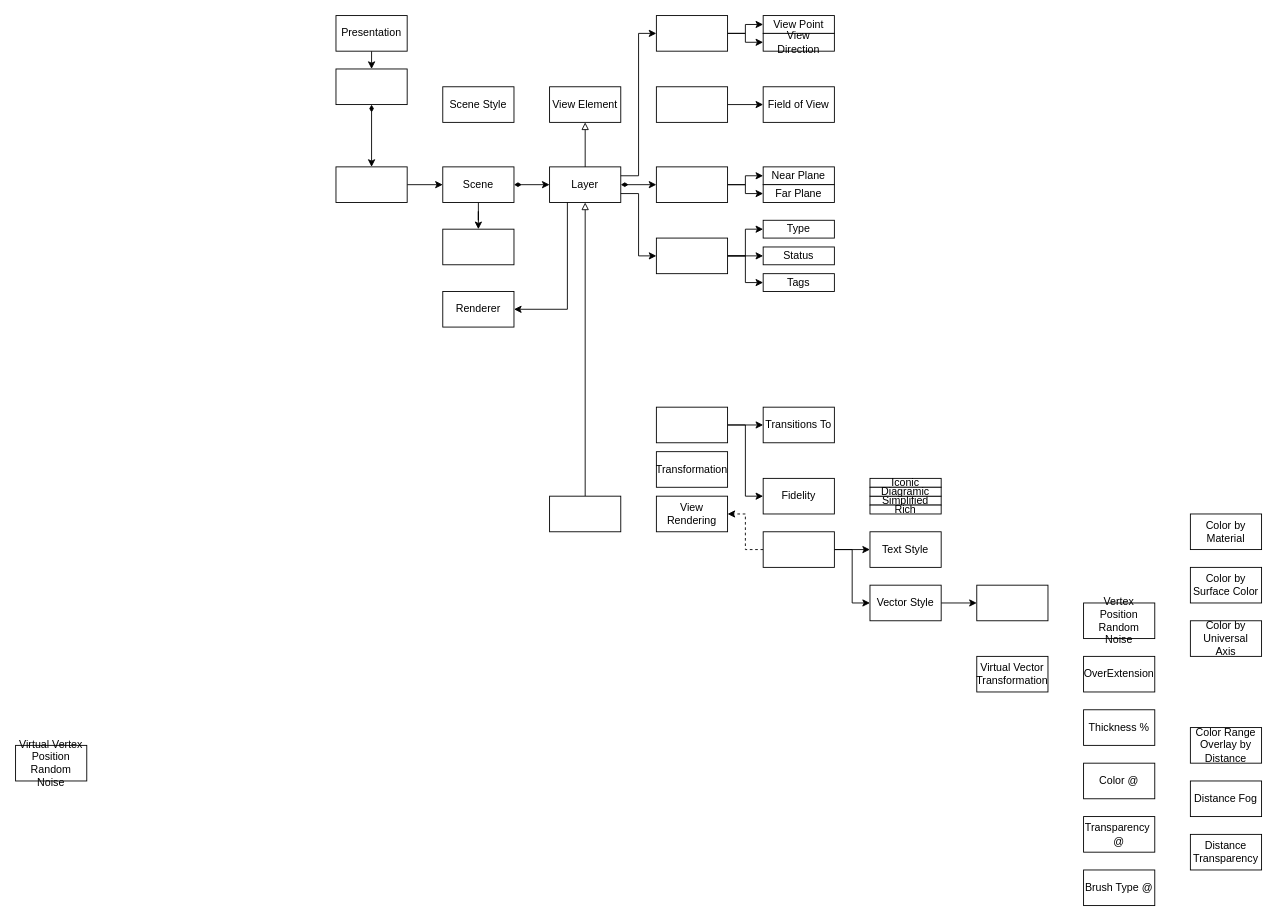
This 1277x921 diagram has some shape labels left out. Each missing label, with the centre of its shape:
"Animation Into" goes at point (478, 246).
"Overlays" goes at point (585, 513).
"Per View Element" goes at point (691, 424).
"Rendering" goes at point (371, 184).
"Style" goes at point (798, 549).
"Timeline" goes at point (371, 86).
"View" goes at point (691, 33).
"View Element Filtering" goes at point (691, 255).
"View Frame" goes at point (691, 104).
"View Frustrum" goes at point (691, 184).
"Virtual Vector Set" goes at point (1012, 602).
